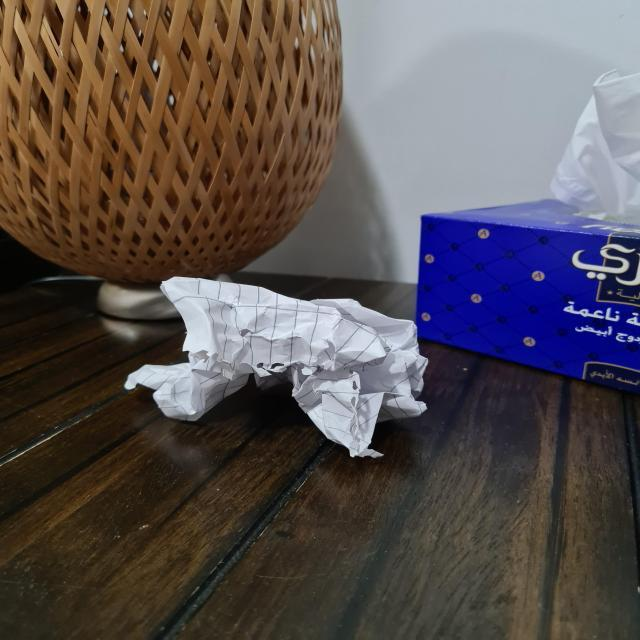trash: (143, 276, 433, 452)
